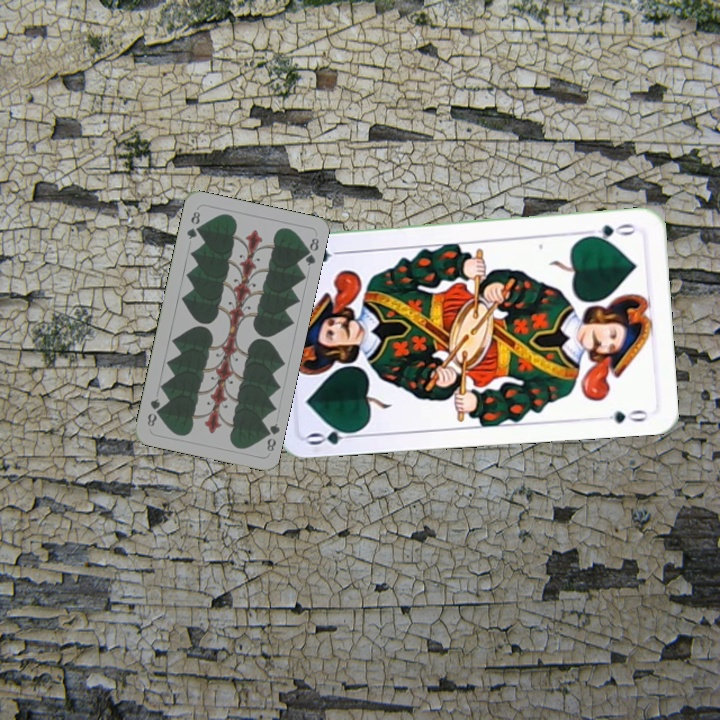G8: (259, 419, 282, 454), (182, 207, 203, 242)
GO: (304, 421, 363, 448), (581, 220, 640, 243)
